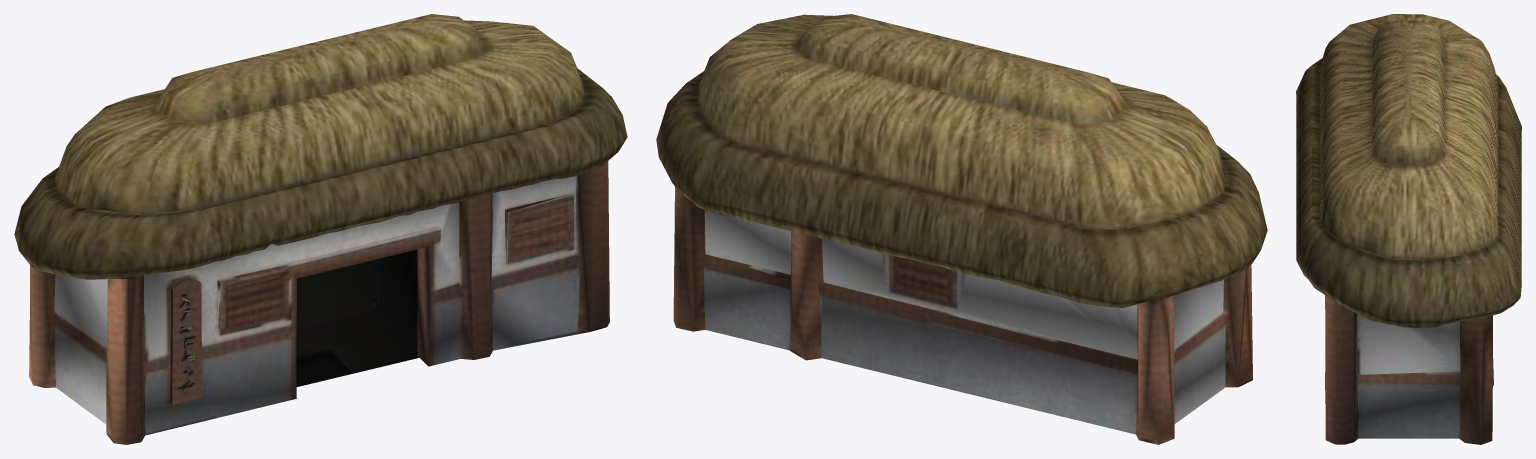
Rendered from house-plain_far.glb.
The picture shows the model from 3 angles, left to right: view 1: azimuth 30°, elevation 25°; view 2: azimuth 150°, elevation 25°; view 3: azimuth 270°, elevation 25°; orthographic projection. The views are drawn at different scales.
Parts seen in each view (by area): view 1: house_plain_lod1; view 2: house_plain_lod1; view 3: house_plain_lod1.
Boxes of the visible parts, bbox=[...] form: house_plain_lod1: bbox=[14, 14, 627, 444]; house_plain_lod1: bbox=[656, 14, 1267, 444]; house_plain_lod1: bbox=[1296, 14, 1521, 444].
Size of the model in its own units: 8.15 by 4.09 by 3.13.
1 material, 1 textured.
